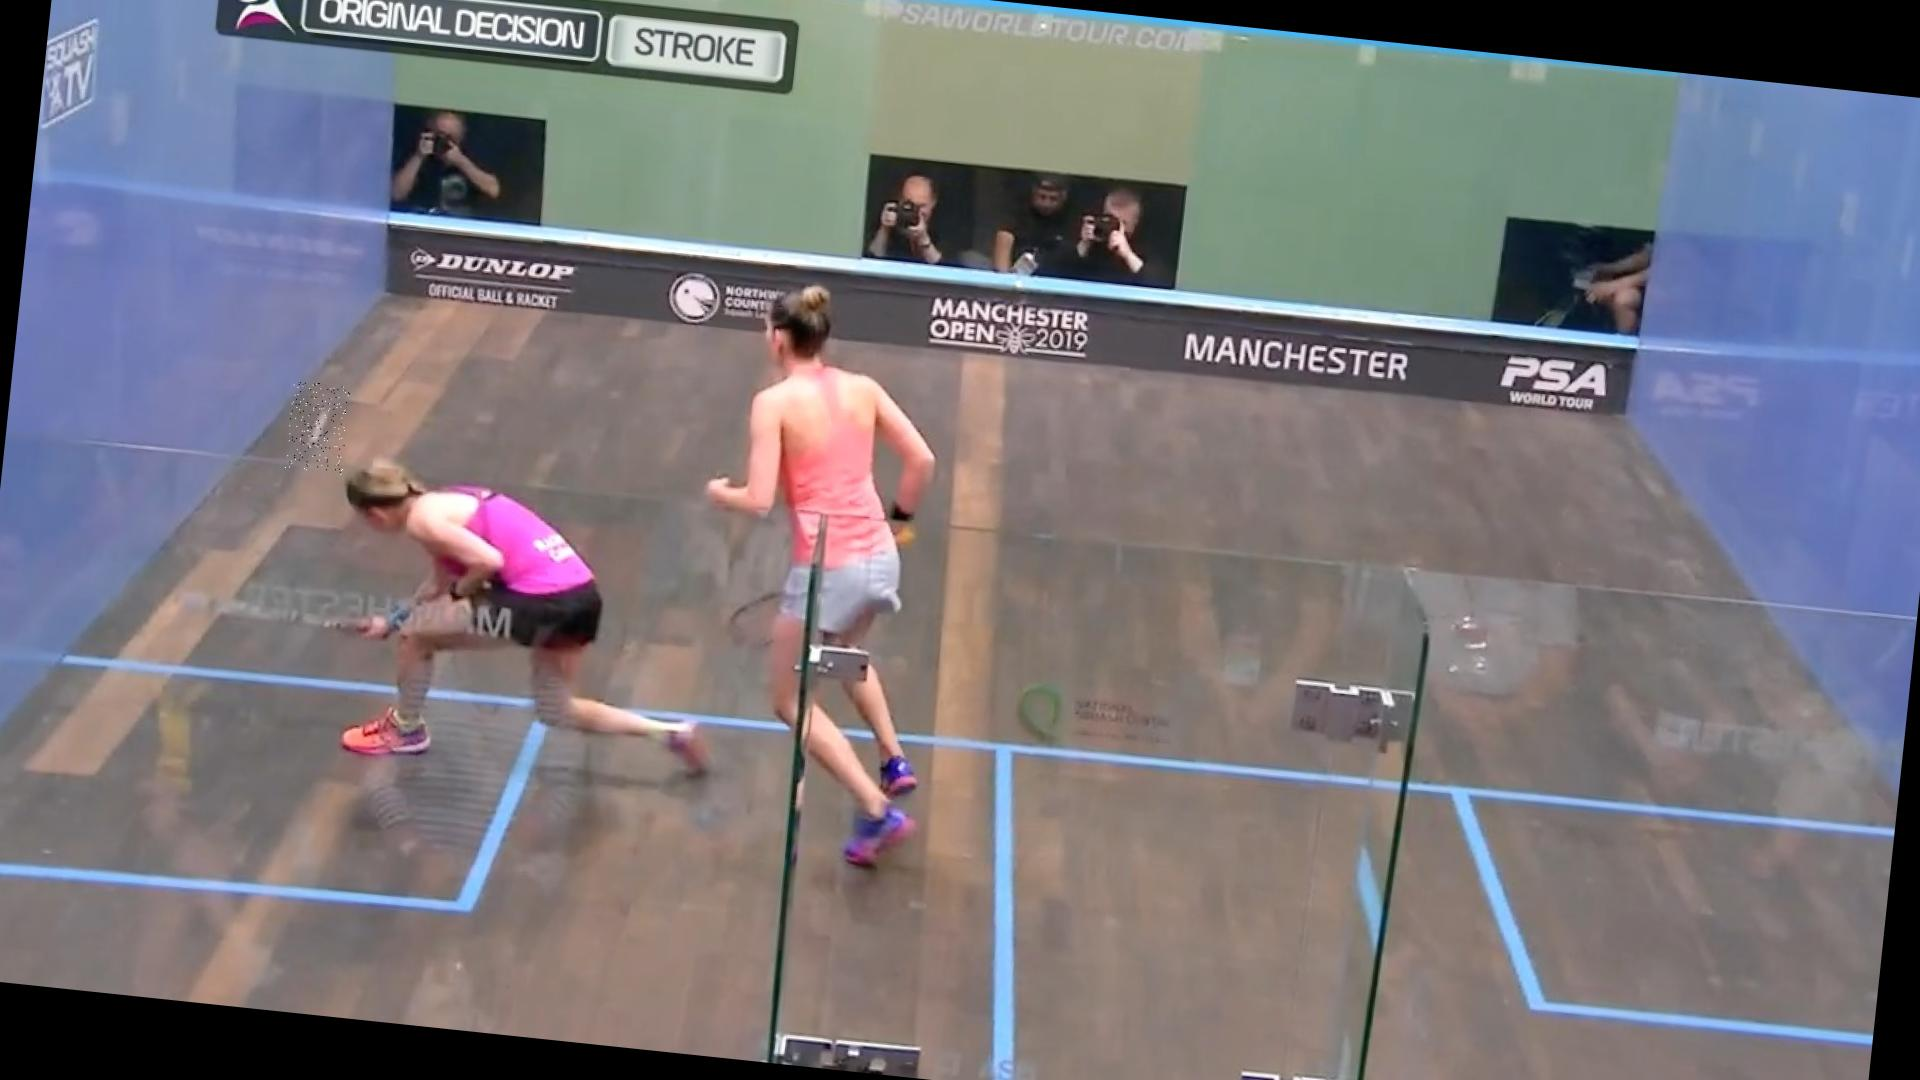Squash-Ball: (285, 381, 352, 475)
